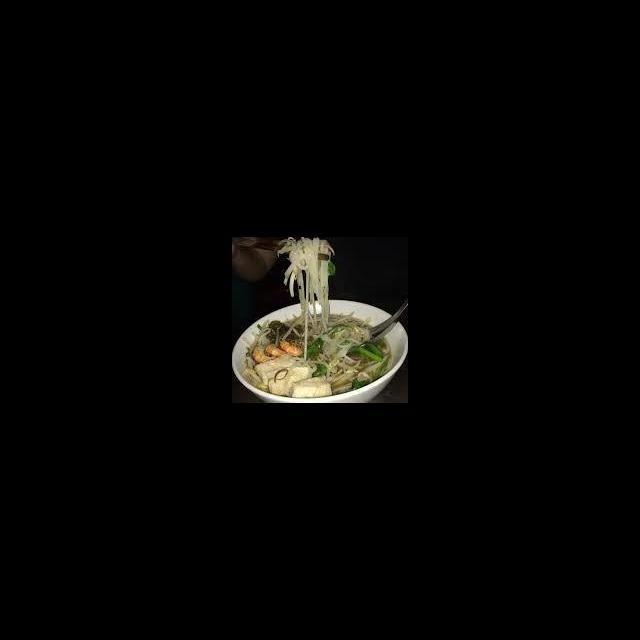bun: (273, 238, 337, 338)
bun ca: (238, 255, 408, 403)
ca: (251, 351, 302, 386), (266, 362, 312, 399), (289, 374, 334, 399)
tom: (277, 336, 306, 357), (251, 342, 280, 363), (264, 340, 288, 359)
